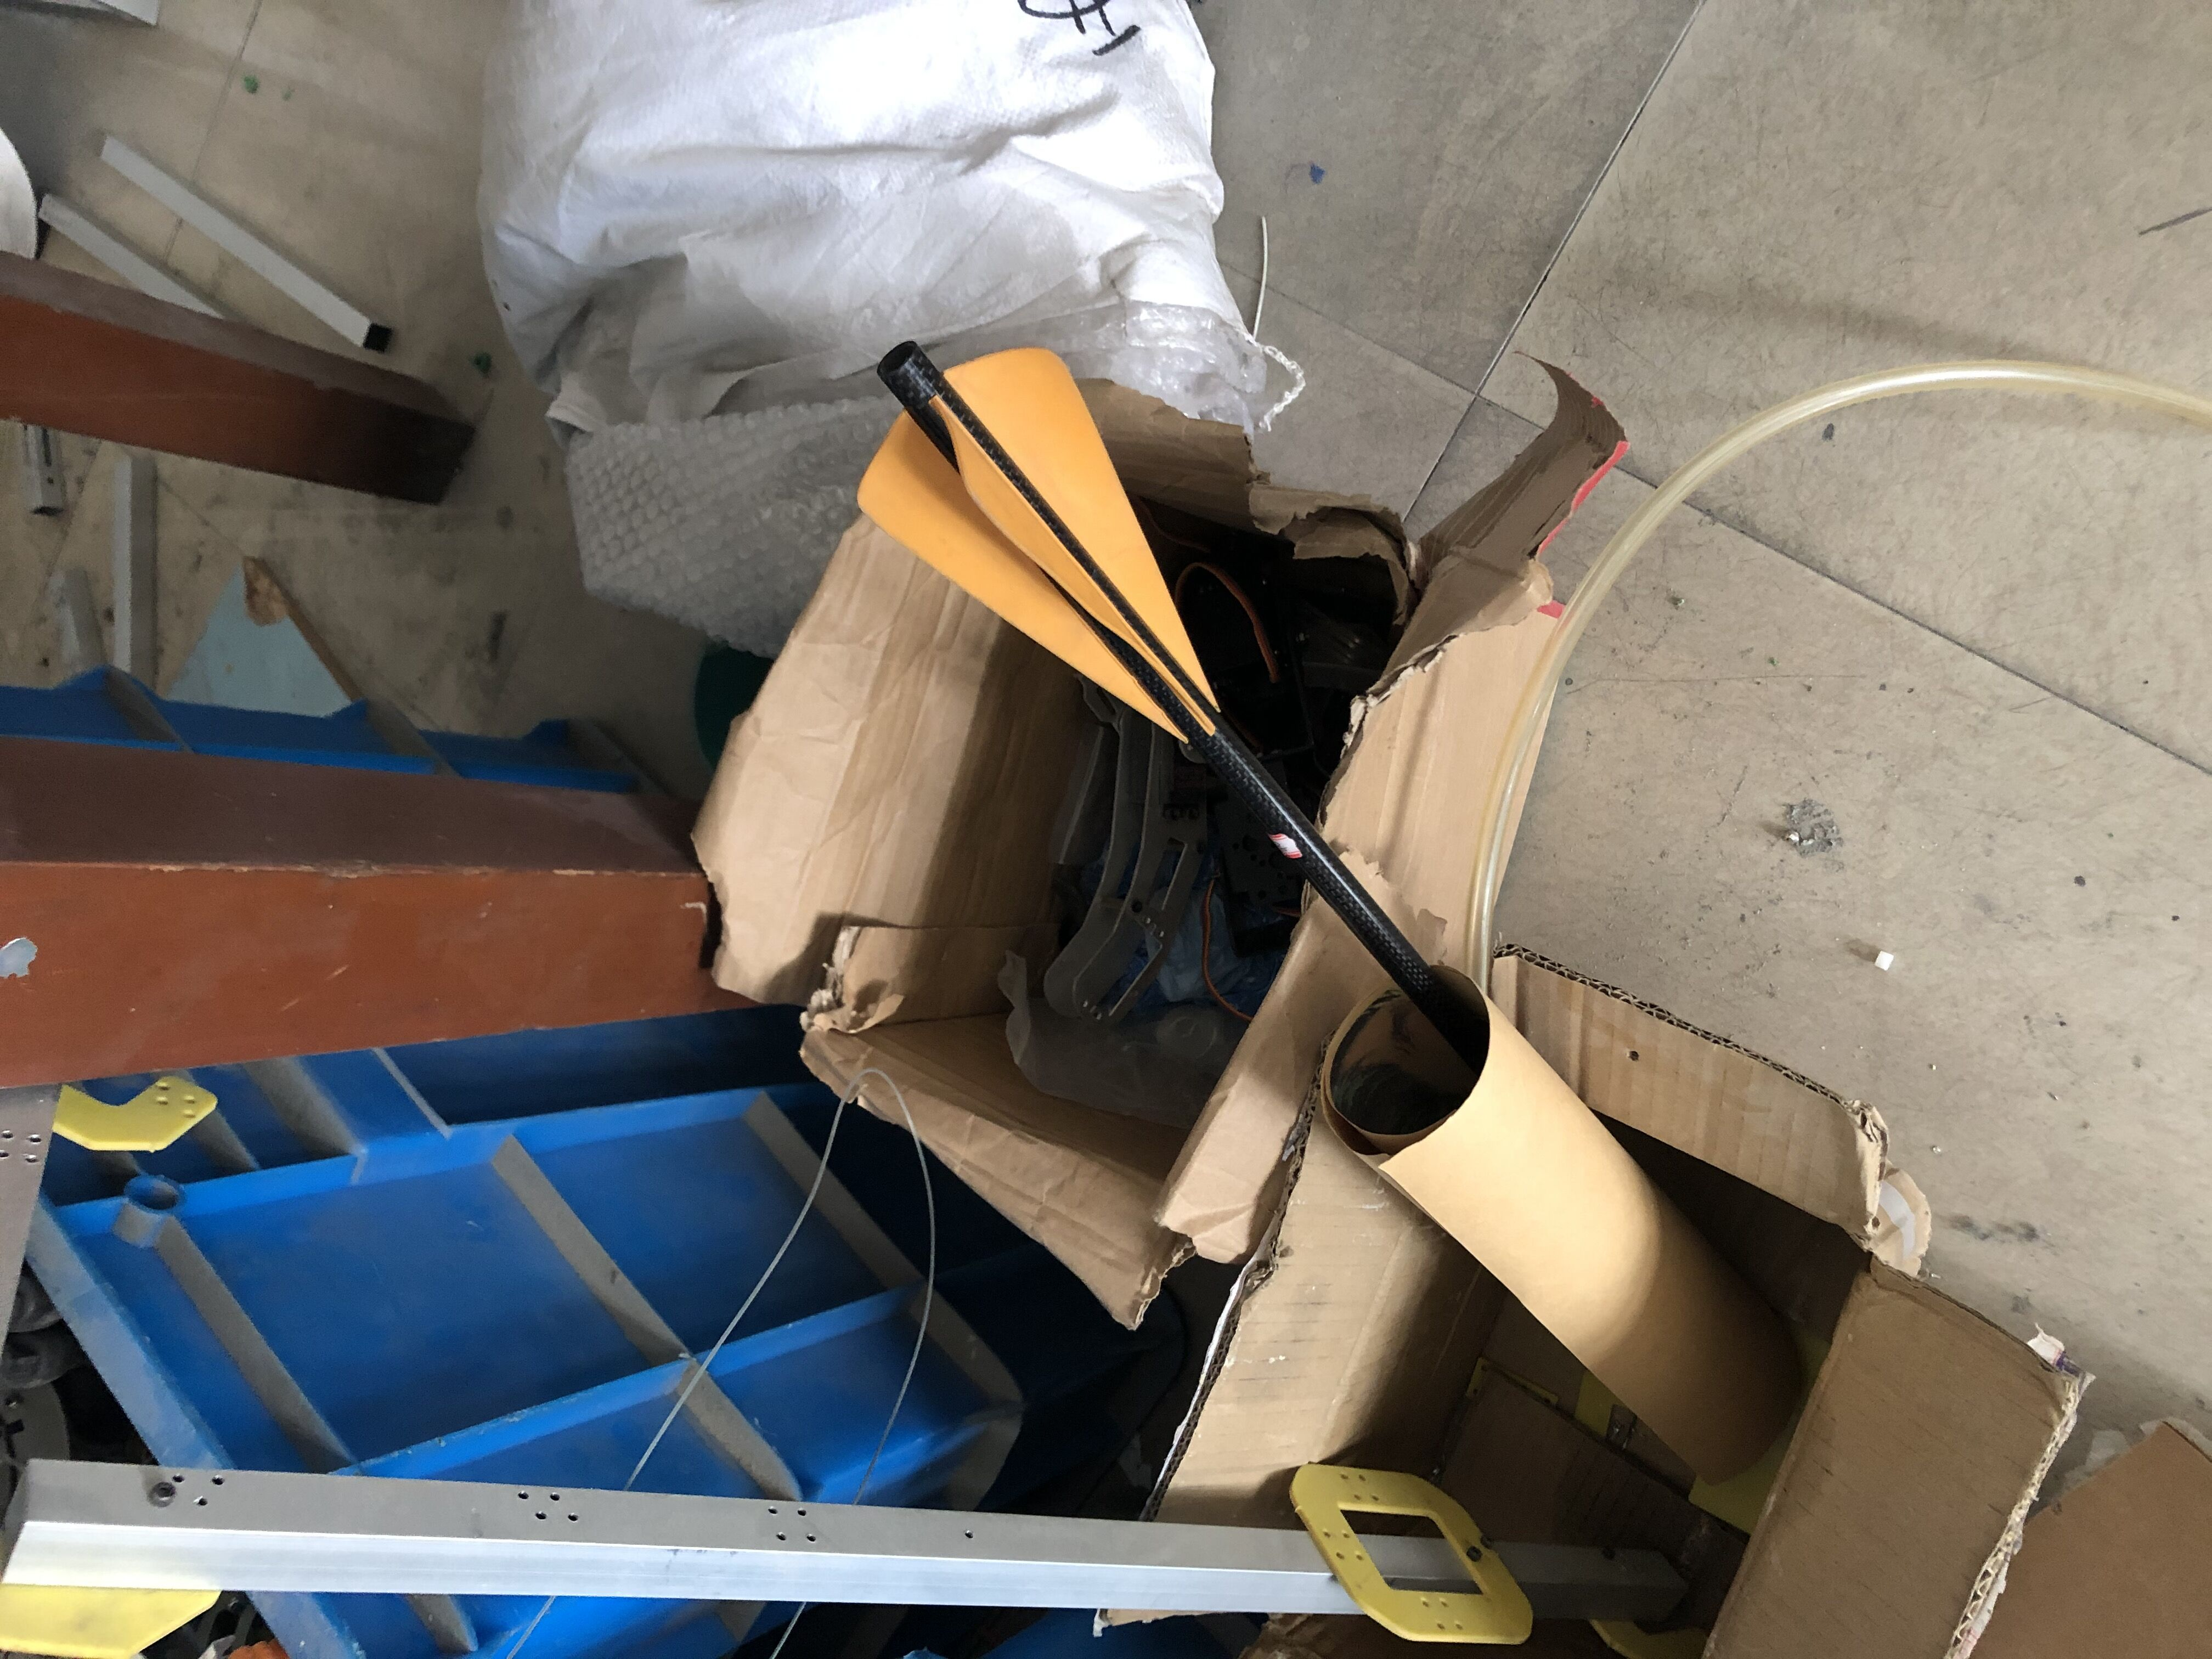arrow: (852, 336, 1467, 1053)
